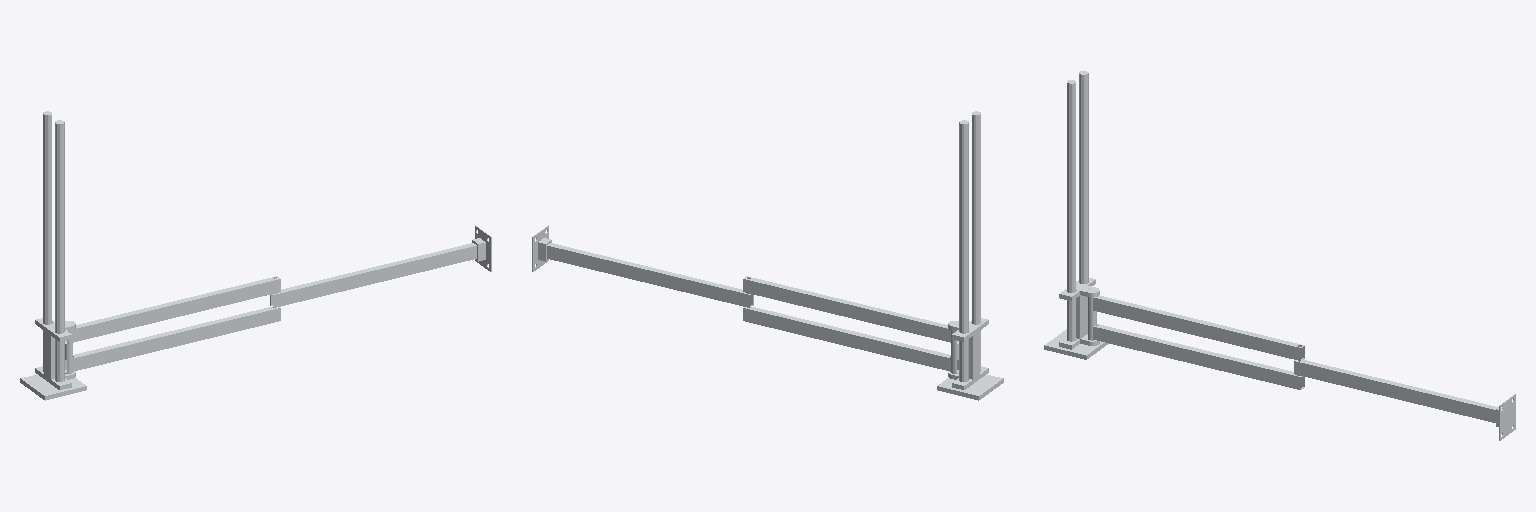
URDF robot description (rabota):
<!-- -*- mode: XML -*- -->
<robot
  name="rabota">

  <link name="world"/>

  <joint name="fixed" type="fixed">
    <parent link="world"/>
    <child link="base_link"/>
  </joint>

  <link
    name="base_link">
    <inertial>
      <origin
        xyz="0 0 0.23606"
        rpy="0 0 0" />
      <mass
        value="1.2879" />
      <inertia
        ixx="0.051276"
        ixy="0"
        ixz="0"
        iyy="0.05064"
        iyz="0"
        izz="0.0011371" />
    </inertial>
    <visual>
      <origin
        xyz="0 0 0"
        rpy="0 0 0" />
      <geometry>
        <mesh
          filename="package://rabota_description/meshes/base_link.STL" />
      </geometry>
      <material
        name="">
        <color
          rgba="0.89412 0.91373 0.92941 1" />
      </material>
    </visual>
    <collision>
      <origin
        xyz="0 0 0"
        rpy="0 0 0" />
      <geometry>
        <mesh
          filename="package://rabota_description/meshes/base_link.STL" />
      </geometry>
    </collision>
  </link>
  <link
    name="slider_link">
    <inertial>
      <origin
        xyz="-0.032492 0 2.7756E-17"
        rpy="0 0 0" />
      <mass
        value="0.40096" />
      <inertia
        ixx="0.00081582"
        ixy="0"
        ixz="0"
        iyy="0.00074408"
        iyz="0"
        izz="0.00019154" />
    </inertial>
    <visual>
      <origin
        xyz="0 0 0"
        rpy="0 0 0" />
      <geometry>
        <mesh
          filename="package://rabota_description/meshes/slider_link.STL" />
      </geometry>
      <material
        name="">
        <color
          rgba="0.89412 0.91373 0.92941 1" />
      </material>
    </visual>
    <collision>
      <origin
        xyz="0 0 0"
        rpy="0 0 0" />
      <geometry>
        <mesh
          filename="package://rabota_description/meshes/slider_link.STL" />
      </geometry>
    </collision>
  </link>
  <joint
    name="slider_pris_joint"
    type="fixed">
    <origin
      xyz="0.035 0 0.065"
      rpy="0 0 0" />
    <parent
      link="base_link" />
    <child
      link="slider_link" />
    <axis
      xyz="0 0 1" />
    <limit
      lower="0"
      upper="0.6"
      effort="30"
      velocity="0.4" />
  </joint>
  <link
    name="link_1">
    <inertial>
      <origin
        xyz="0.19958 0 -3.0531E-16"
        rpy="0 0 0" />
      <mass
        value="0.28874" />
      <inertia
        ixx="0.00035977"
        ixy="0"
        ixz="0"
        iyy="0.0079942"
        iyz="0"
        izz="0.0076559" />
    </inertial>
    <visual>
      <origin
        xyz="0 0 0"
        rpy="0 0 0" />
      <geometry>
        <mesh
          filename="package://rabota_description/meshes/link_1.STL" />
      </geometry>
      <material
        name="">
        <color
          rgba="0.89412 0.91373 0.92941 1" />
      </material>
    </visual>
    <collision>
      <origin
        xyz="0 0 0"
        rpy="0 0 0" />
      <geometry>
        <mesh
          filename="package://rabota_description/meshes/link_1.STL" />
      </geometry>
    </collision>
  </link>
  <joint
    name="joint_1"
    type="revolute">
    <origin
      xyz="0 0 0"
      rpy="0 0 0" />
    <parent
      link="slider_link" />
    <child
      link="link_1" />
    <axis
      xyz="0 0 1" />
    <limit
      lower="-1.57"
      upper="1.57"
      effort="1.5"
      velocity="8" />
  </joint>
  <link
    name="link_2">
    <inertial>
      <origin
        xyz="0.31959 0 0"
        rpy="0 0 0" />
      <mass
        value="0.16837" />
      <inertia
        ixx="4.7161E-05"
        ixy="0"
        ixz="0"
        iyy="0.0046023"
        iyz="0"
        izz="0.0045864" />
    </inertial>
    <visual>
      <origin
        xyz="0 0 0"
        rpy="0 0 0" />
      <geometry>
        <mesh
          filename="package://rabota_description/meshes/link_2.STL" />
      </geometry>
      <material
        name="">
        <color
          rgba="0.89412 0.91373 0.92941 1" />
      </material>
    </visual>
    <collision>
      <origin
        xyz="0 0 0"
        rpy="0 0 0" />
      <geometry>
        <mesh
          filename="package://rabota_description/meshes/link_2.STL" />
      </geometry>
    </collision>
  </link>
  <joint
    name="joint_2"
    type="revolute">
    <origin
      xyz="0.492 0 0"
      rpy="0 0 0" />
    <parent
      link="link_1" />
    <child
      link="link_2" />
    <axis
      xyz="0 0 1" />
    <limit
      lower="-1.57"
      upper="1.57"
      effort="1.5"
      velocity="8" />
  </joint>

<!-- GAZEBO -->
  <!-- ros_control plugin -->
<gazebo> 
  <plugin name="gazebo_ros_control" filename="libgazebo_ros_control.so">
    <robotNamespace>/rabota</robotNamespace> 
  </plugin> 
</gazebo>

<transmission name="tran1">
  <type>transmission_interface/SimpleTransmission</type>
  <joint name="slider_pris_joint">
    <hardwareInterface>EffortJointInterface</hardwareInterface>
  </joint>
  <actuator name="motor1">
    <hardwareInterface>EffortJointInterface</hardwareInterface>
    <mechanicalReduction>1</mechanicalReduction>
  </actuator>
</transmission>

<transmission name="tran2">
  <type>transmission_interface/SimpleTransmission</type>
  <joint name="link_1_Rot_joint">
   <hardwareInterface>EffortJointInterface</hardwareInterface>
  </joint>
  <actuator name="motor2">
    <hardwareInterface>EffortJointInterface</hardwareInterface>
    <mechanicalReduction>1</mechanicalReduction>
  </actuator>
</transmission>

<transmission name="tran3">
  <type>transmission_interface/SimpleTransmission</type>
  <joint name="link_2_Rot_joint">
    <hardwareInterface>EffortJointInterface</hardwareInterface>
  </joint>
  <actuator name="motor3">
    <hardwareInterface>EffortJointInterface</hardwareInterface>
    <mechanicalReduction>1</mechanicalReduction>
  </actuator>
</transmission>

</robot>

--- Render facts (derived) ---
3 views of the same robot in one strip: view 1: azimuth 30°, elevation 25°; view 2: azimuth 150°, elevation 25°; view 3: azimuth 330°, elevation 25° (orthographic).
Robot: rabota — 5 links, 4 joints (2 revolute, 2 fixed); root link world; default pose: all joints at 0.
Visible links, largest first — view 1: link_1, base_link, link_2, slider_link; view 2: link_1, base_link, link_2, slider_link; view 3: link_1, base_link, link_2, slider_link.
Boxes of the visible links, x1,y1,x2,y2 form: link_1: (65, 276, 280, 373); base_link: (20, 111, 86, 400); link_2: (270, 225, 491, 307); slider_link: (35, 318, 75, 389); link_1: (743, 276, 958, 373); base_link: (937, 111, 1003, 400); link_2: (532, 225, 753, 307); slider_link: (948, 318, 988, 389); link_1: (1088, 288, 1304, 389); base_link: (1044, 71, 1108, 359); link_2: (1294, 360, 1515, 440); slider_link: (1059, 278, 1099, 349).
Size in the robot's own frame: 1.07 by 0.1 by 0.61 metres.
4 mesh visuals loaded from 4 distinct referenced files (4 binary STL).